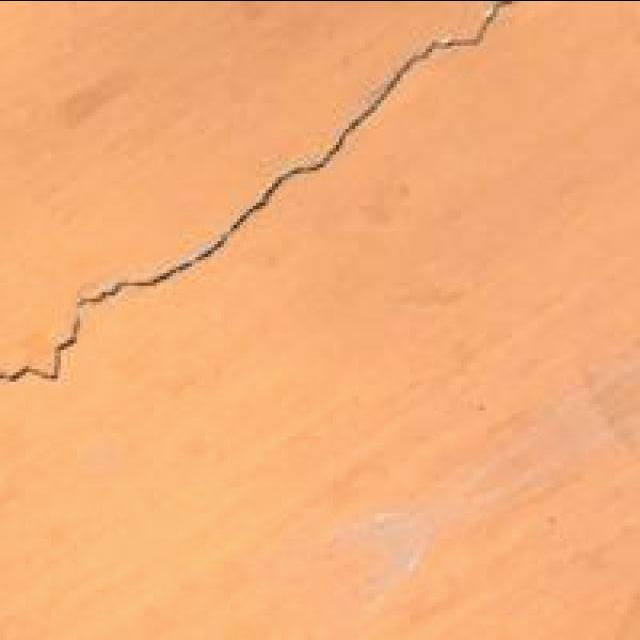SurfaceCrack: (2, 0, 538, 406)
